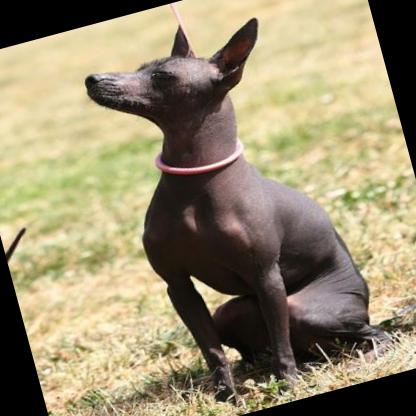Mexican_hairless: (72, 0, 416, 416)
